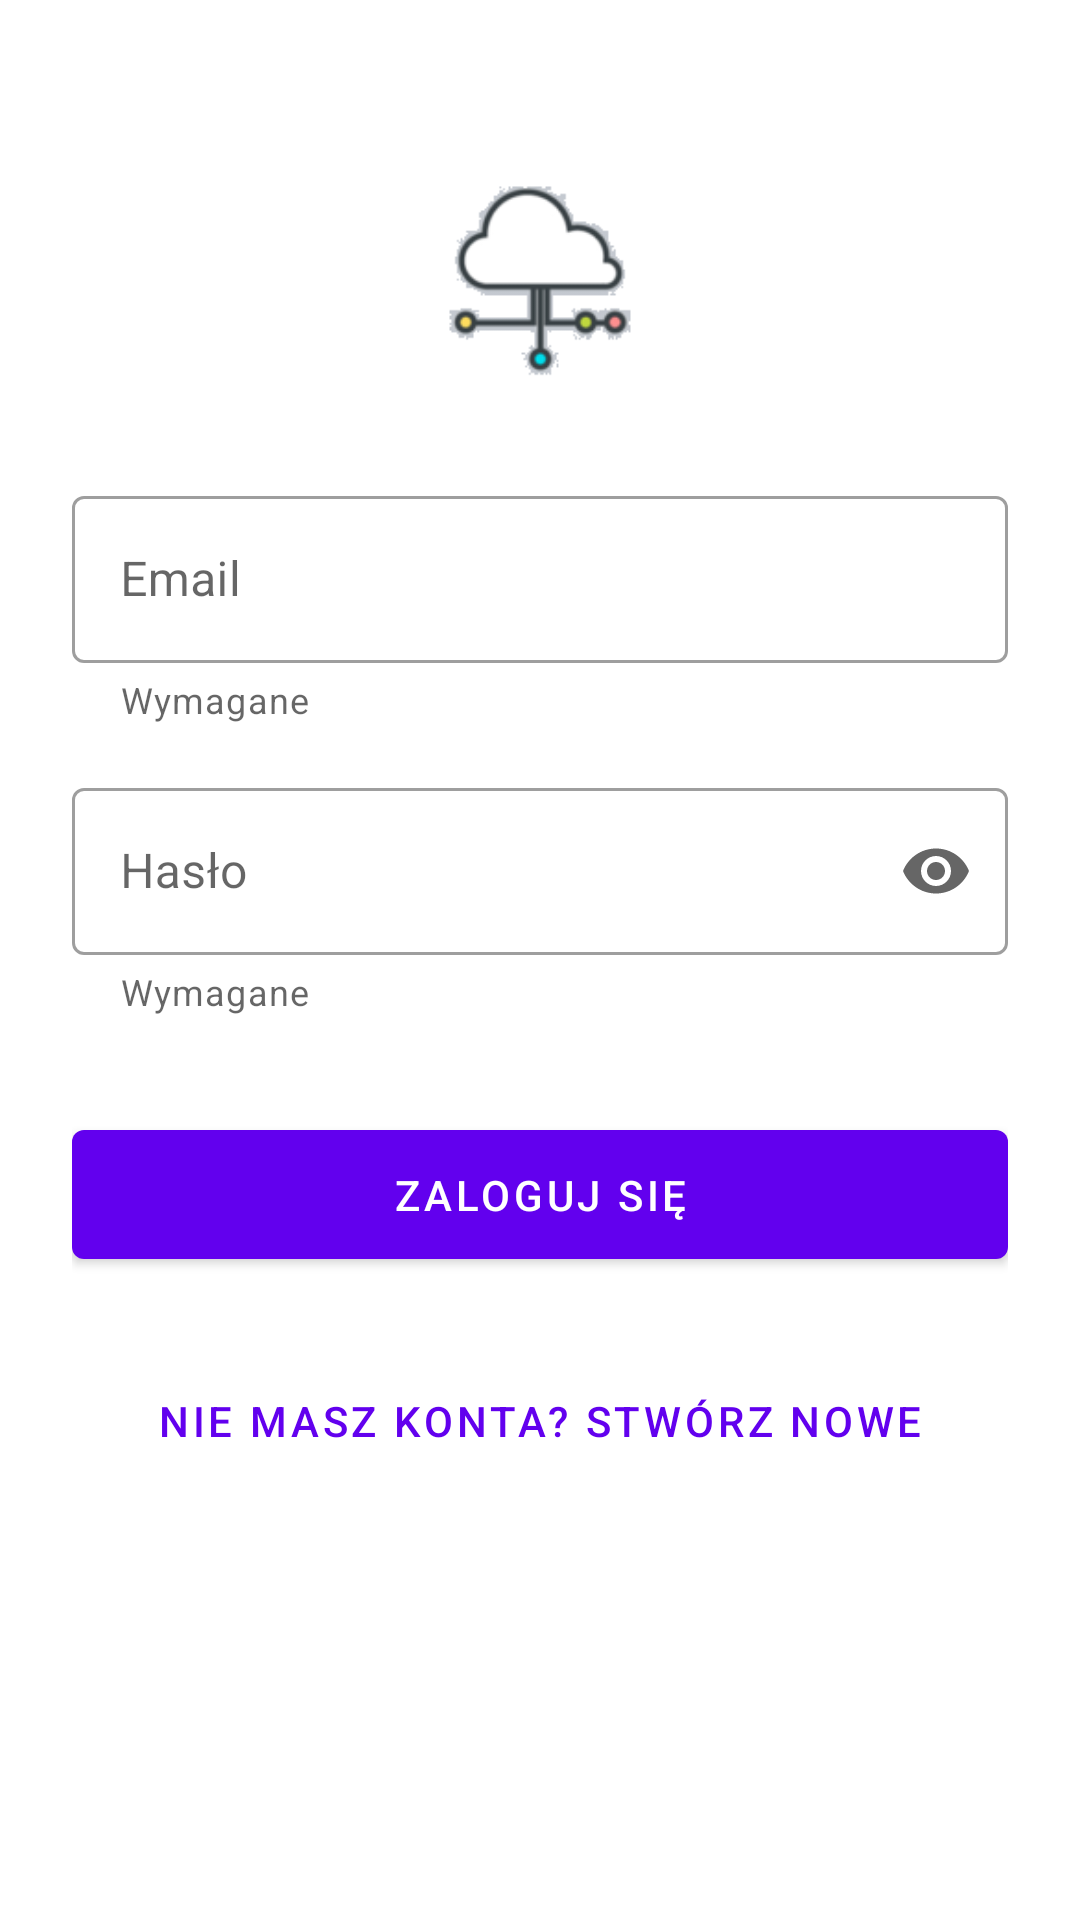

Icon bounding boxes for this 1080w x 1920h phone screenshot, format (x1, y1, x2, y2):
iot cloud: (449, 186, 631, 375)
